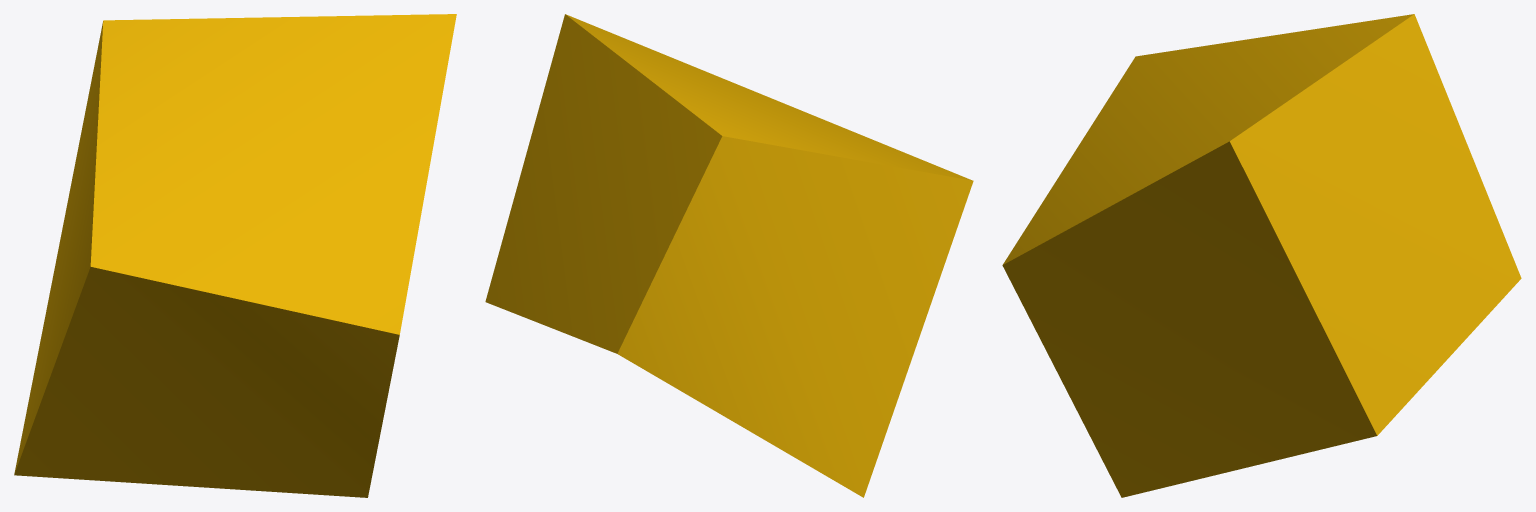
The model's file is Particle_Shape2.fbx.
3 renders of one model, left to right at view 1: azimuth 30°, elevation 25°; view 2: azimuth 150°, elevation 25°; view 3: azimuth 270°, elevation 25°, orthographic. The views are drawn at different scales.
Visible parts, largest first — view 1: pCube1; view 2: pCube1; view 3: pCube1.
Part boxes in pixels (x1,y1,x2,y2): pCube1: (14,14,456,497); pCube1: (485,14,973,497); pCube1: (1002,14,1521,497).
Size of the model in its own units: 119 by 109 by 119.
